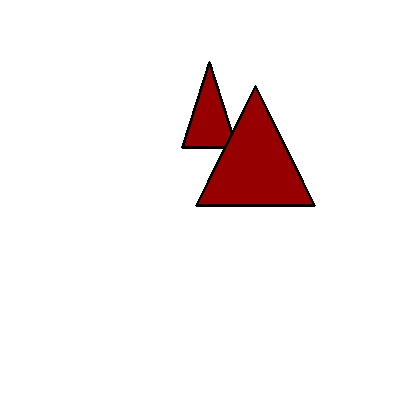triangle: (196, 86, 314, 205), (182, 62, 236, 147)
